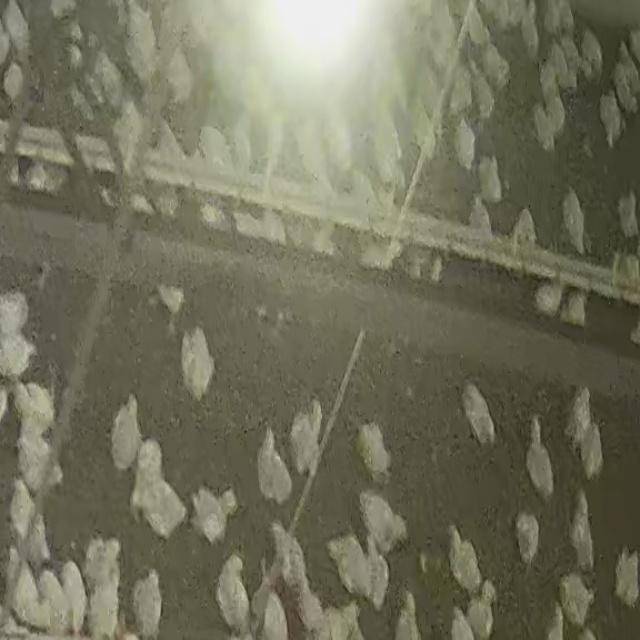chicken: (325, 528, 379, 605), (353, 486, 413, 551), (15, 416, 58, 499), (0, 291, 37, 382), (214, 551, 252, 636), (178, 323, 218, 398), (11, 558, 50, 633), (124, 1, 160, 80), (106, 393, 142, 471), (268, 521, 308, 590), (258, 427, 292, 508), (115, 100, 151, 174), (446, 526, 484, 596), (463, 373, 499, 446), (355, 417, 392, 487), (289, 396, 320, 479), (524, 418, 555, 501), (193, 490, 240, 543), (58, 558, 89, 637), (145, 480, 186, 539), (131, 436, 160, 519), (568, 489, 596, 572), (13, 378, 56, 431), (37, 565, 70, 634), (93, 50, 129, 113), (130, 569, 163, 637), (611, 40, 640, 117), (557, 569, 595, 627), (294, 578, 332, 636), (530, 96, 568, 152), (163, 45, 196, 107), (540, 41, 572, 101), (197, 123, 235, 172), (565, 384, 594, 448), (560, 188, 587, 254), (9, 479, 37, 542), (83, 535, 117, 586), (578, 419, 604, 484), (613, 546, 640, 608), (446, 67, 476, 122), (480, 42, 512, 93), (1, 0, 30, 55), (463, 590, 496, 638), (467, 65, 495, 121), (260, 589, 290, 640), (514, 510, 542, 564), (598, 93, 624, 149), (27, 512, 53, 568), (460, 1, 490, 48), (476, 153, 505, 201), (453, 117, 478, 172), (578, 26, 604, 78), (136, 437, 166, 481), (517, 4, 542, 56), (395, 592, 423, 638), (616, 189, 640, 242), (510, 206, 539, 249), (154, 281, 187, 318), (534, 280, 565, 317), (2, 59, 26, 104), (561, 290, 588, 328), (468, 196, 494, 235), (449, 607, 479, 640), (200, 202, 228, 228), (528, 414, 543, 450)
